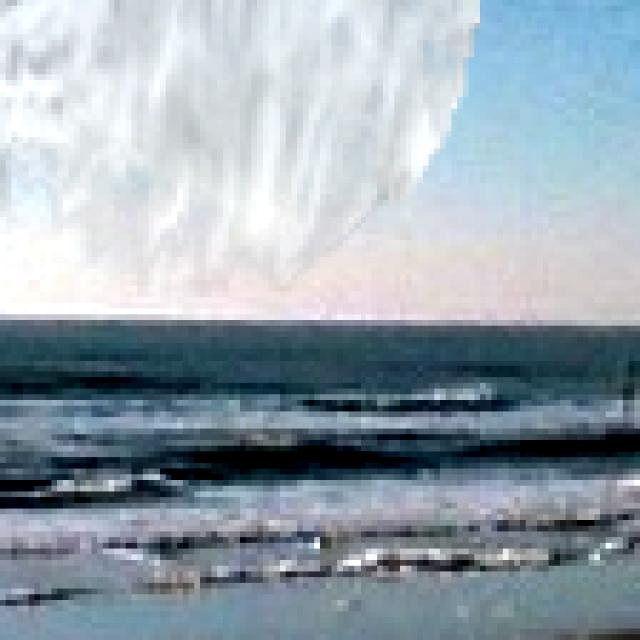smoke: (0, 0, 480, 297)
